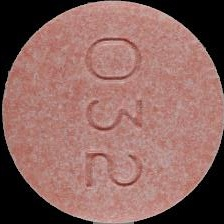60687-130: (0, 0, 224, 224)
